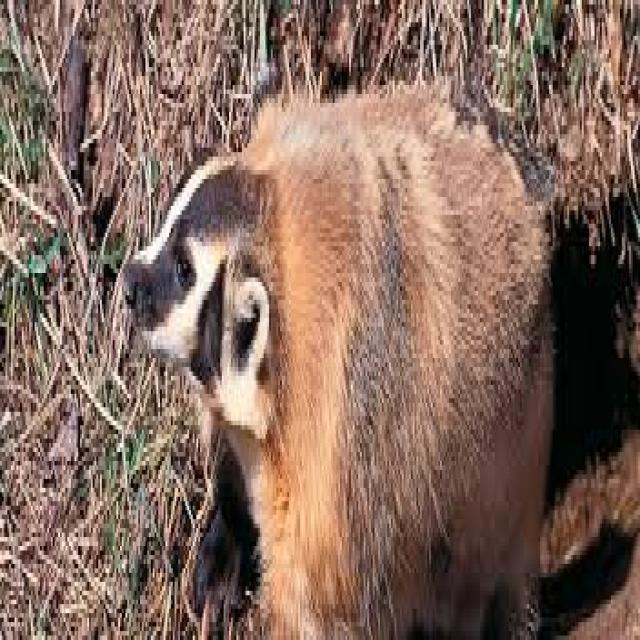Badger: (123, 80, 554, 640)
